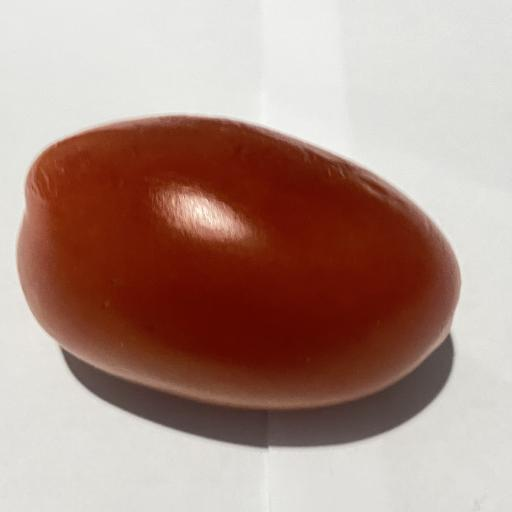ripe: (18, 116, 460, 409)
